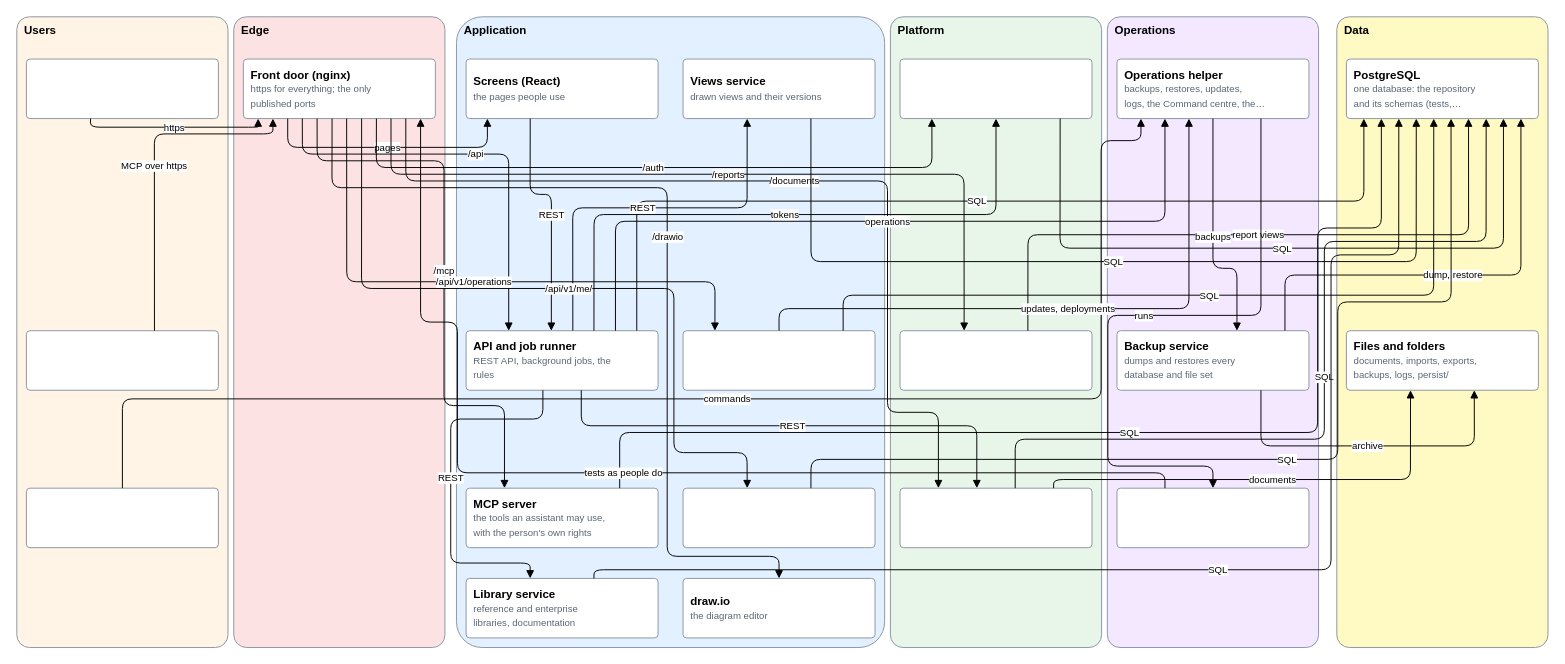
Image size: 1565x664. Some labels were removed from this diagram. Each missing label, with the centre of its shape:
AI assistant a person's own language model, through MCP: [121,360]
Documents (Mayan) project documents and files: [995,517]
eax command starts, stops, backs up, updates and tests the…: [121,517]
Keycloak sign-in and the global roles: [995,88]
Operations service housekeeping, retention, usage, deployments, updates (R2.27): [778,360]
People (browser) architects, admins and readers in a web browser: [121,88]
Personal data service each person's notifications, requests, favourites, views,…: [778,517]
Reports (Superset) dashboards and charts on the report views: [995,360]
Test runner the self-test: API, browser, database, security, backups: [1212,517]
